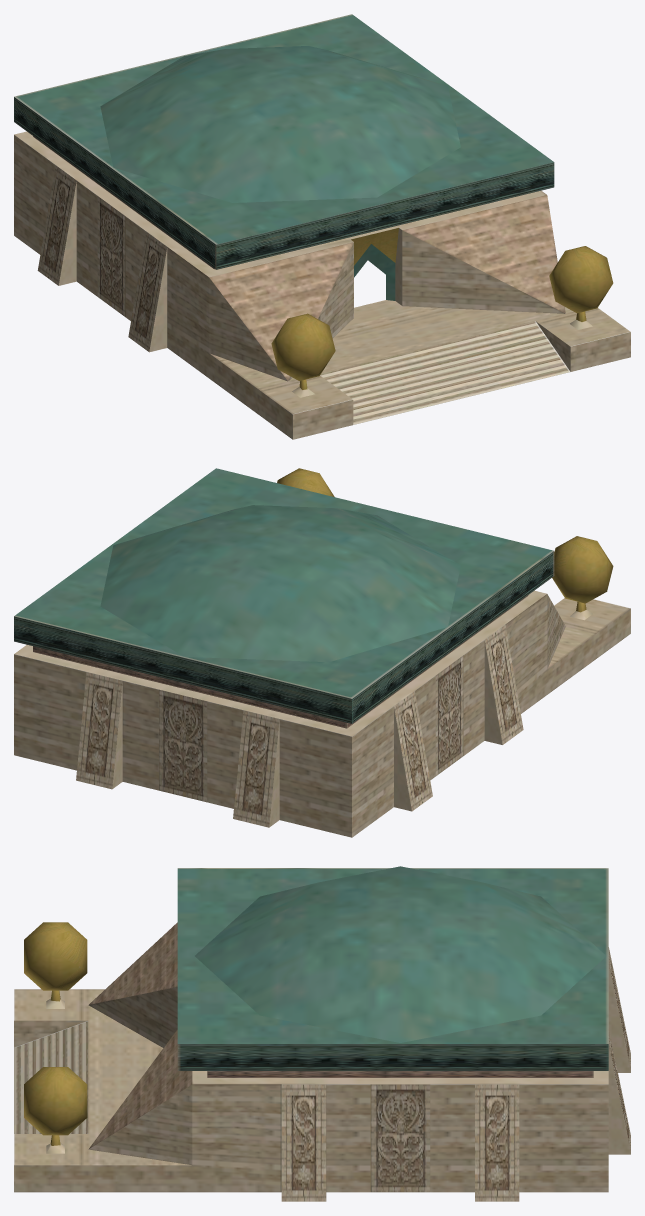
Rendered from mun_nboo_guild_commerce_s01_r0_exterior_mesh_nabo_guildcommerce_l2.fbx.
3 renders of one model, top to bottom at view 1: azimuth 30°, elevation 25°; view 2: azimuth 150°, elevation 25°; view 3: azimuth 270°, elevation 25°, orthographic. The views are drawn at different scales.
Visible parts, largest first — view 1: mesh_node; view 2: mesh_node; view 3: mesh_node.
Part boxes in pixels (box(x1,y1,x2,y2)): mesh_node: box(14, 14, 630, 439); mesh_node: box(14, 468, 630, 837); mesh_node: box(14, 866, 630, 1201).
Bounding box in the file's own units: 38.75 × 18.45 × 51.88.
